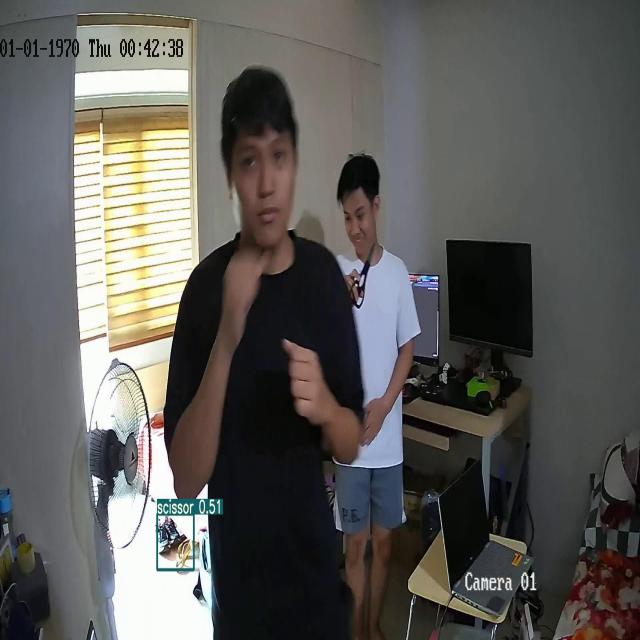scissor: (350, 243, 374, 308)
